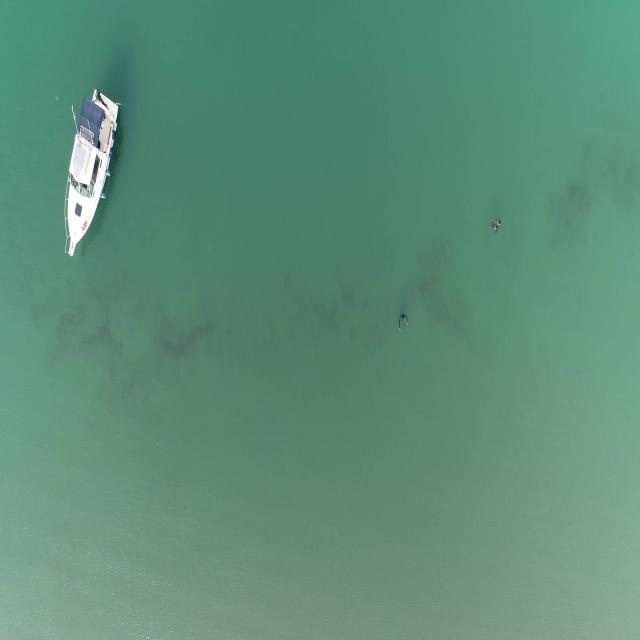boat: (60, 86, 120, 261)
person: (490, 215, 502, 242), (397, 312, 411, 334)
